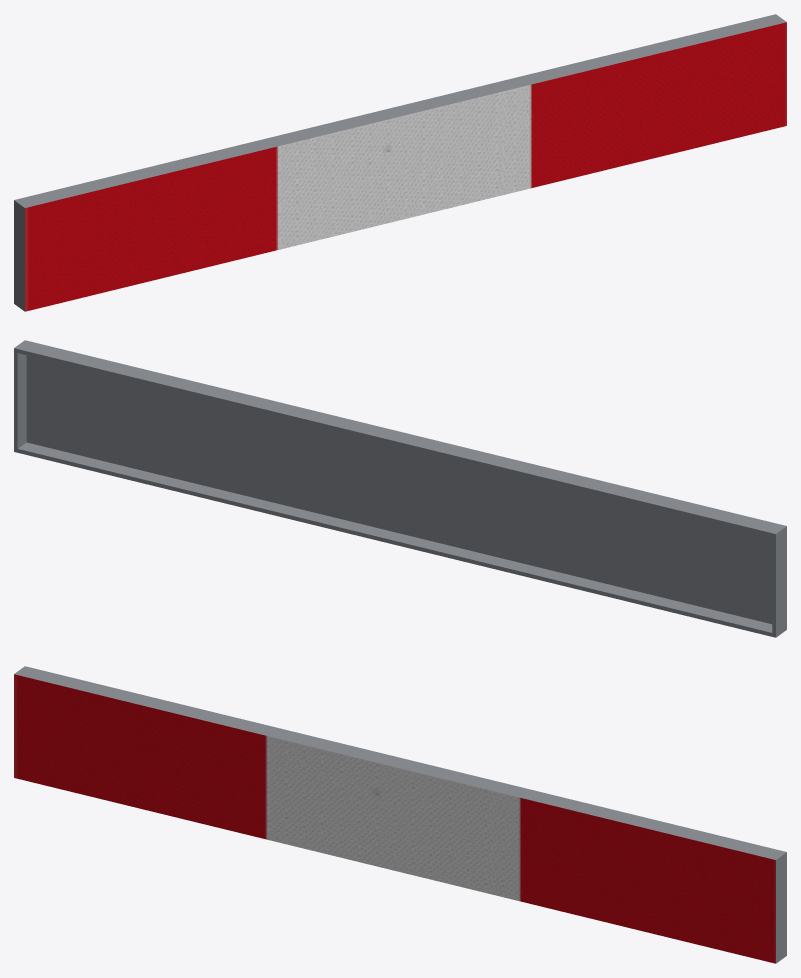
3 views of the same model, one above another, from view 1: azimuth 30°, elevation 25°; view 2: azimuth 150°, elevation 25°; view 3: azimuth 330°, elevation 25° (orthographic).
Visible parts, largest first — view 1: cat_5a15227b98831786; view 2: cat_5a15227b98831786; view 3: cat_5a15227b98831786.
Part boxes in pixels (x1,y1,x2,y2): cat_5a15227b98831786: (14, 14, 786, 311); cat_5a15227b98831786: (14, 340, 786, 637); cat_5a15227b98831786: (14, 666, 786, 963).
Bounding box in the file's own units: 0.6 × 0.015 × 0.078.
2 materials, 1 textured.
